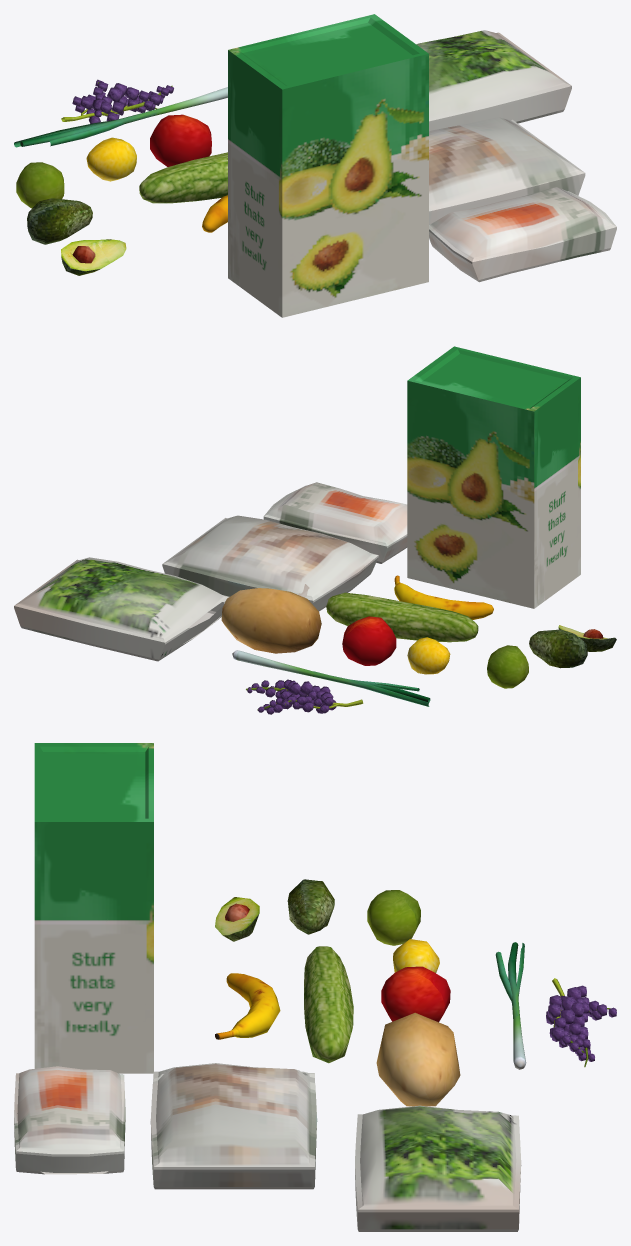
Rendered from veggies.fbx.
3 views of the same model, one above another, from view 1: azimuth 30°, elevation 25°; view 2: azimuth 150°, elevation 25°; view 3: azimuth 270°, elevation 25° (orthographic). The views are drawn at different scales.
Visible parts, largest first — view 1: fillerBox, frozenfood2, frozenfood1, frozenfood3, zuchini, tomato, grapes, avocado, springOnio, avocadoSlice, lemon, greenApple (+1 smaller); view 2: fillerBox, frozenfood3, frozenfood1, frozenfood2, potato, zuchini, grapes, tomato, springOnio, avocado, greenApple, banana (+2 smaller); view 3: fillerBox, frozenfood1, frozenfood3, frozenfood2, potato, zuchini, tomato, grapes, greenApple, banana, avocado, springOnio (+2 smaller).
Part boxes in pixels (x1,y1,x2,y2): fillerBox: (228,14,428,317); frozenfood2: (429,186,616,282); frozenfood1: (429,117,585,224); frozenfood3: (416,30,571,131); zuchini: (139,152,227,203); tomato: (150,114,211,166); grapes: (61,79,173,123); avocado: (27,198,92,244); springOnio: (14,87,227,147); avocadoSlice: (61,239,126,275); lemon: (86,137,136,181); greenApple: (16,162,64,208); fillerBox: (407,346,580,608); frozenfood3: (14,557,229,661); frozenfood1: (162,515,378,611); frozenfood2: (263,482,407,563); potato: (221,588,321,653); zuchini: (326,592,478,642); grapes: (246,679,363,714); tomato: (342,616,396,665); springOnio: (232,650,430,706); avocado: (529,629,587,668); greenApple: (487,645,528,688); banana: (394,575,493,619); fillerBox: (34,743,153,1073); frozenfood1: (150,1063,317,1189); frozenfood3: (355,1105,521,1231); frozenfood2: (14,1066,125,1174); potato: (376,1012,460,1106); zuchini: (304,946,353,1063); tomato: (381,966,450,1022); grapes: (546,978,616,1067); greenApple: (367,890,420,945); banana: (215,973,280,1039); avocado: (287,879,334,934); springOnio: (495,942,526,1069).
Bounding box in the file's own units: 119 × 47.19 × 99.76.
